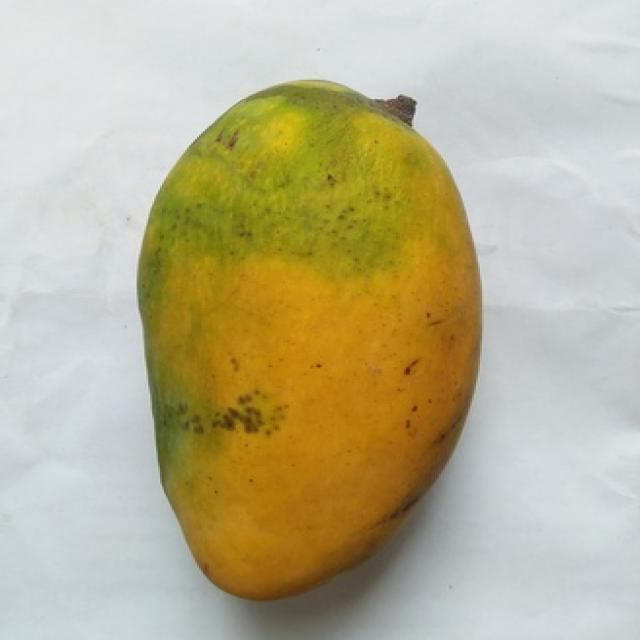Mango: (139, 80, 480, 599)
